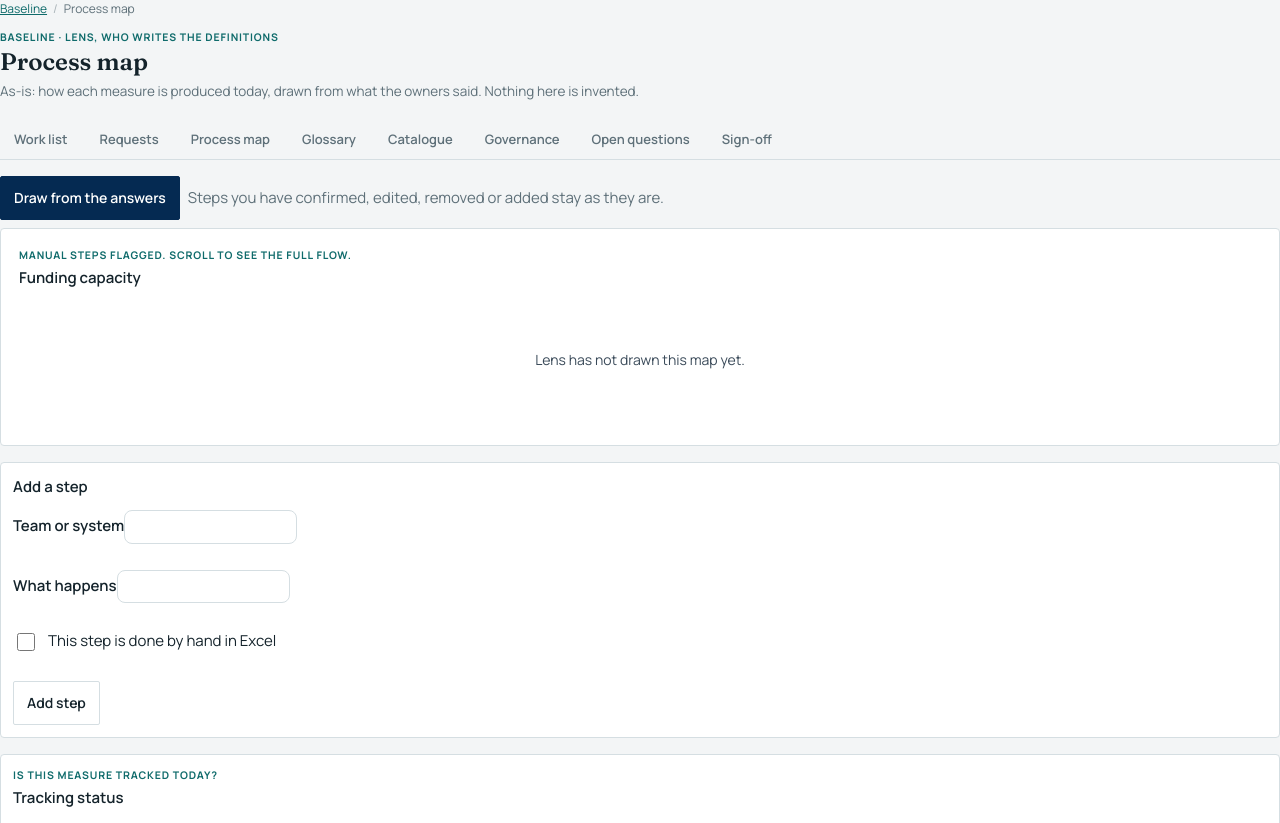
process map screen › drawing from the answers replaces the map with the server's
This screenshot has width=1280, height=823.
What coordinates should you click on to do the following:
click the button "Draw from the answers"
I would click on:
 (90, 198)
Its box is [0,176,180,220].
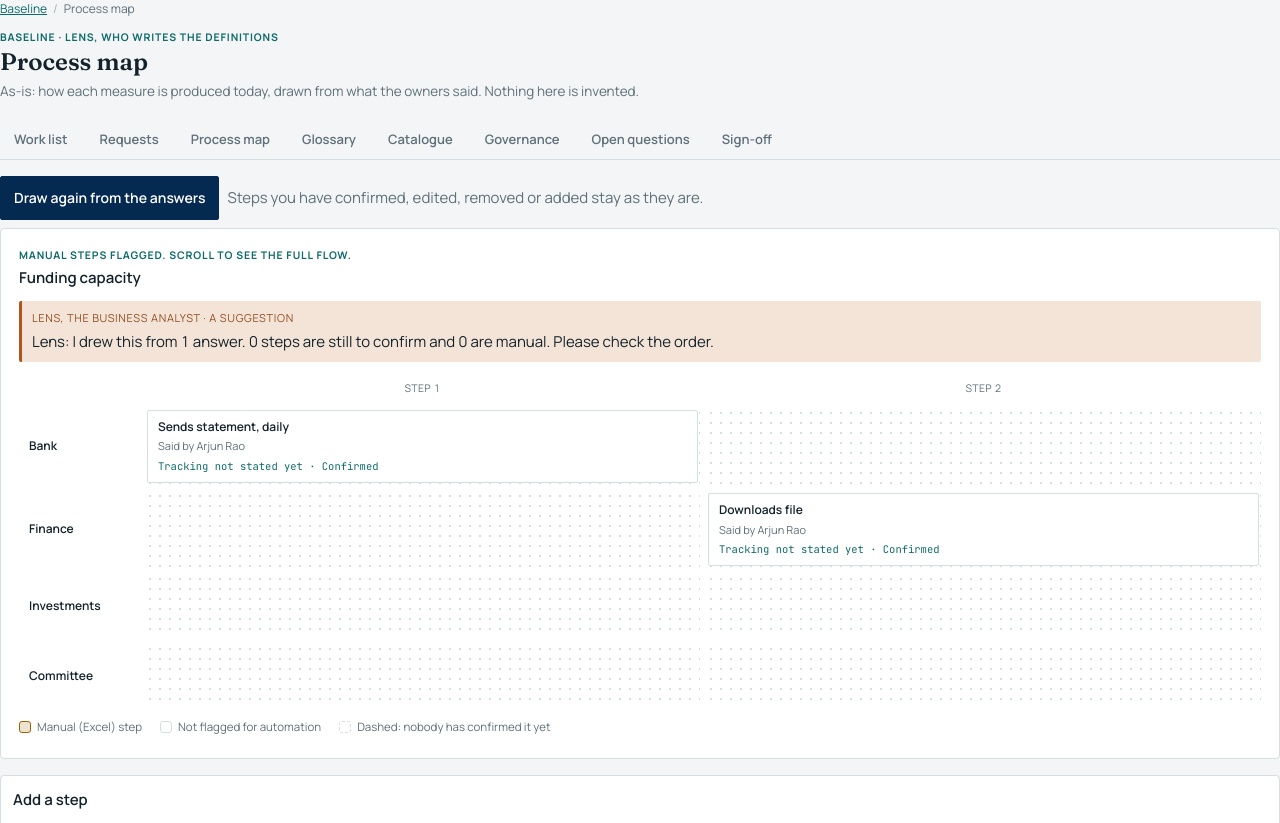
Check: the button "Draw again from the answers" is shown, box [0,176,219,220]
